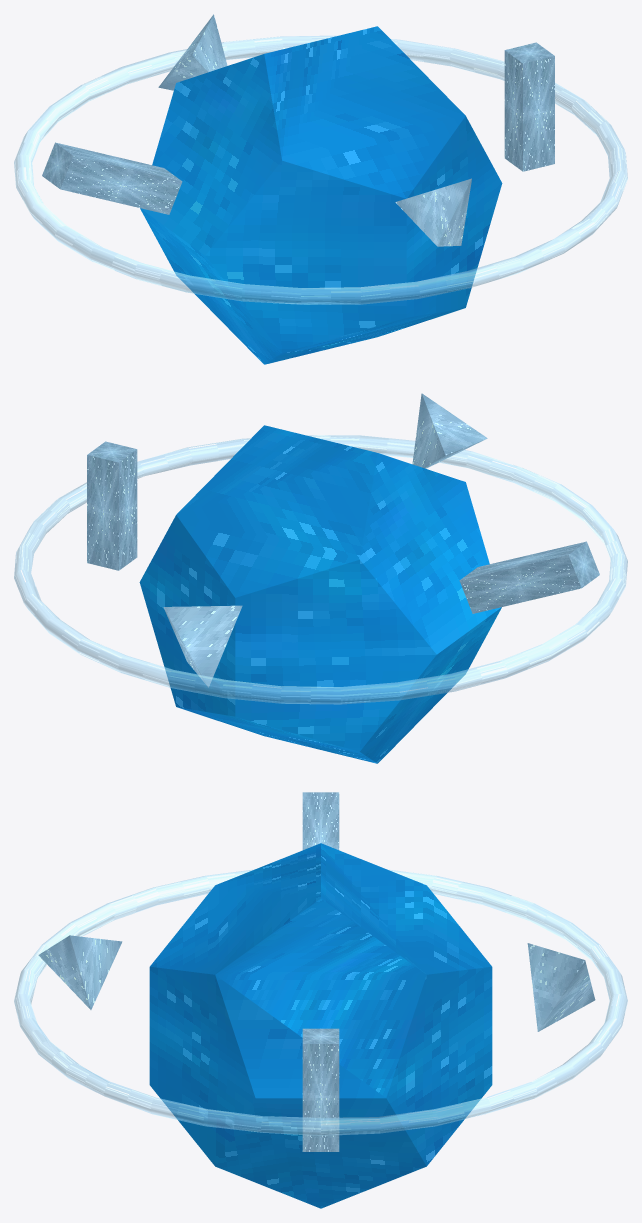
File: anomaly-cluster-cyan.medium.glb
3 renders of one model, top to bottom at view 1: azimuth 30°, elevation 25°; view 2: azimuth 150°, elevation 25°; view 3: azimuth 270°, elevation 25°, orthographic.
Parts seen in each view (by area): view 1: shell, ring, orbital-0; view 2: shell, ring, orbital-0; view 3: shell, ring, orbital-0.
Boxes of the visible parts, x1,y1,x2,y2 form: shell: (140,26,502,364); ring: (14,35,627,304); orbital-0: (42,14,554,246); shell: (139,425,501,763); ring: (14,435,627,704); orbital-0: (87,393,599,687); shell: (149,843,492,1208); ring: (14,869,627,1135); orbital-0: (38,792,595,1151).
Size of the model in its own units: 2.7 by 1.49 by 2.68.
3 materials, 3 textured.
